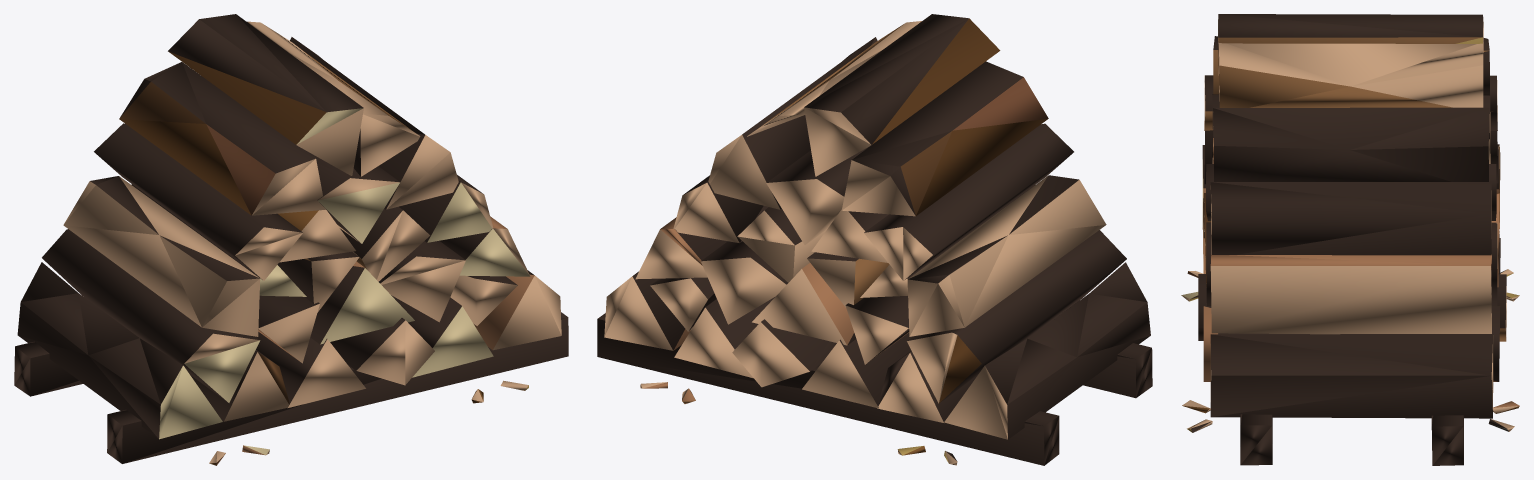
Rendered from prop.woodpile.glb.
3 views of the same model, side by side, from view 1: azimuth 30°, elevation 25°; view 2: azimuth 150°, elevation 25°; view 3: azimuth 270°, elevation 25° (orthographic). The views are drawn at different scales.
Visible parts, largest first — view 1: asset; view 2: asset; view 3: asset.
Part boxes in pixels (bbox=[...]): asset: bbox=[14, 14, 568, 465]; asset: bbox=[597, 14, 1152, 465]; asset: bbox=[1181, 14, 1519, 465].
Bounding box in the file's own units: 0.8944 × 0.6 × 0.568.
